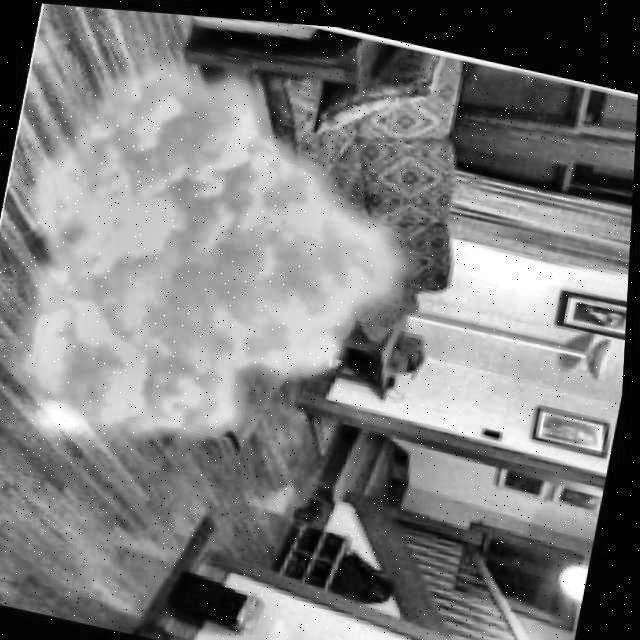Smoke: (0, 15, 455, 496)
